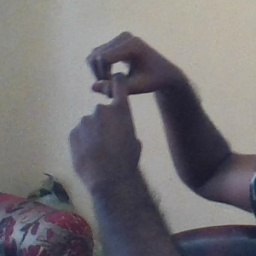Q: (65, 29, 165, 171)
